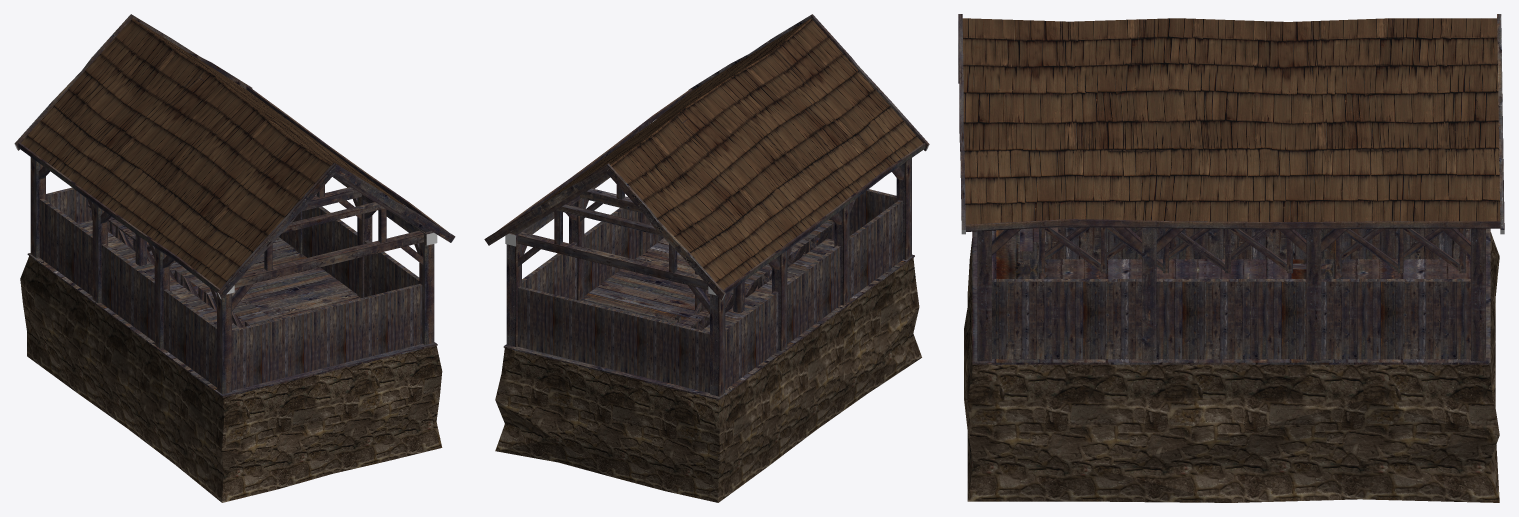
The model's file is water mill.fbx.
The picture shows the model from 3 angles, left to right: view 1: azimuth 30°, elevation 25°; view 2: azimuth 150°, elevation 25°; view 3: azimuth 270°, elevation 25°; orthographic projection. The views are drawn at different scales.
Visible parts, largest first — view 1: CIHNWBYCUGT6RAQZPG5S1BG3S; view 2: CIHNWBYCUGT6RAQZPG5S1BG3S; view 3: CIHNWBYCUGT6RAQZPG5S1BG3S.
Boxes of the visible parts, box(x1,y1,x2,y2) form: CIHNWBYCUGT6RAQZPG5S1BG3S: box(14, 14, 455, 502); CIHNWBYCUGT6RAQZPG5S1BG3S: box(484, 14, 929, 502); CIHNWBYCUGT6RAQZPG5S1BG3S: box(958, 14, 1504, 502).
Bounding box in the file's own units: 1191 × 1500 × 1784.
